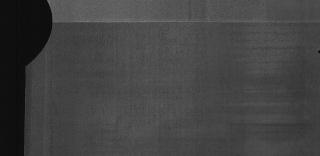punching hole: (317, 50, 319, 54)
welding line: (51, 20, 320, 31)
